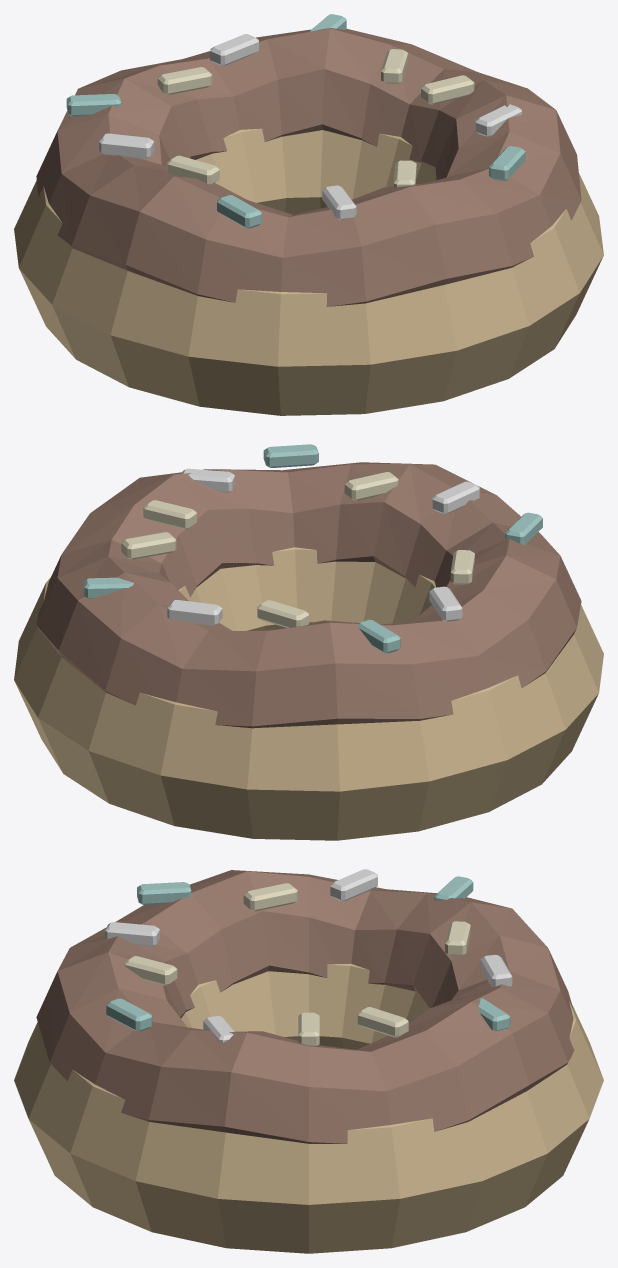
Rendered from chocolate_donut.glb.
The picture shows the model from 3 angles, top to bottom: view 1: azimuth 30°, elevation 25°; view 2: azimuth 150°, elevation 25°; view 3: azimuth 270°, elevation 25°; orthographic projection.
Parts seen in each view (by area): view 1: chocolate_donut; view 2: chocolate_donut; view 3: chocolate_donut.
Boxes of the visible parts, bbox=[...] form: chocolate_donut: bbox=[14, 14, 603, 415]; chocolate_donut: bbox=[14, 444, 603, 840]; chocolate_donut: bbox=[14, 869, 603, 1253].
Size of the model in its own units: 0.5 by 0.2 by 0.5.
